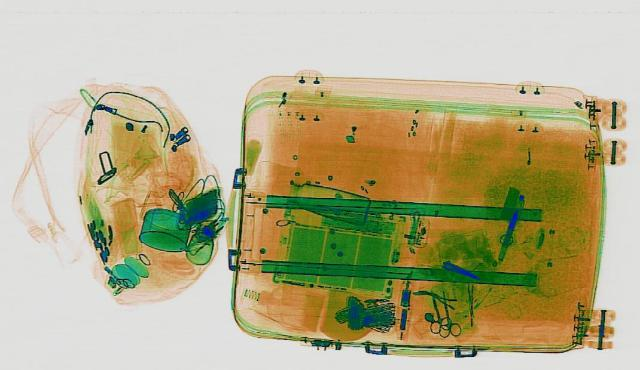Scissors: (430, 288, 460, 336), (422, 293, 454, 331)
